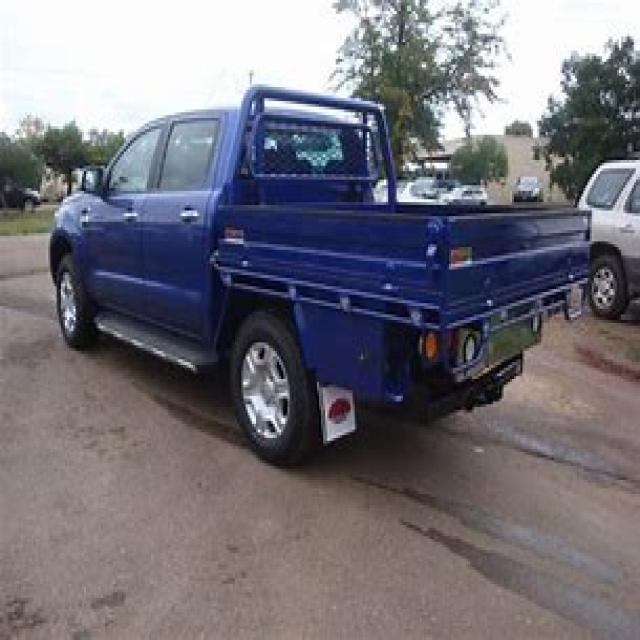light_vehicle: (42, 76, 602, 480)
